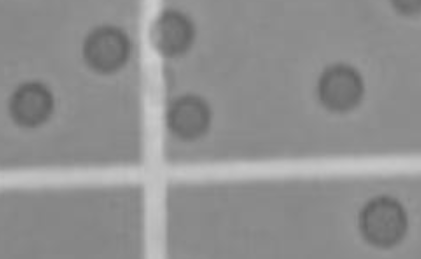cell: (351, 188, 413, 250), (311, 56, 367, 116), (78, 19, 134, 77), (160, 88, 214, 144), (4, 75, 57, 131), (142, 5, 196, 58)
